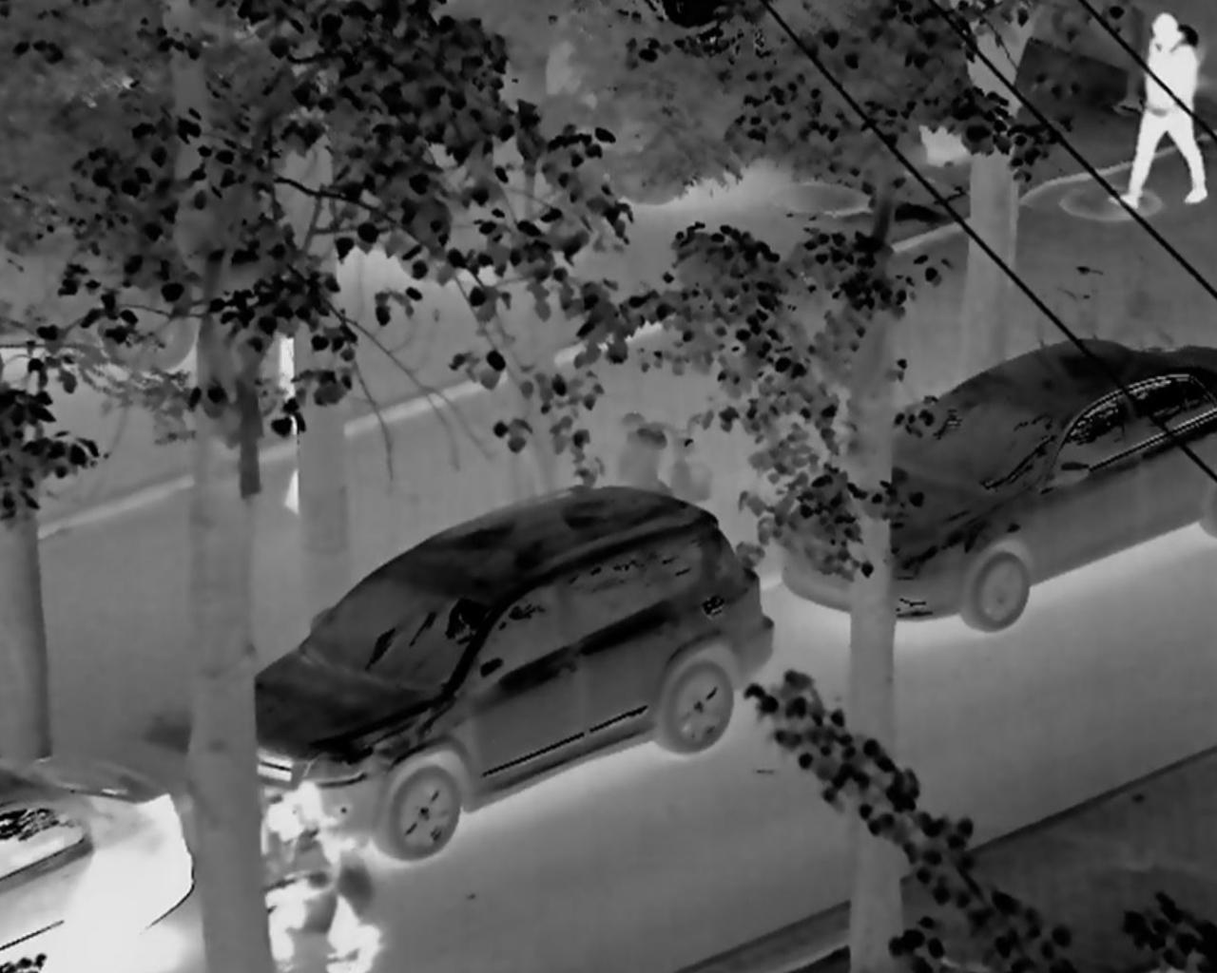person: (1101, 18, 1217, 231), (261, 784, 344, 963)
